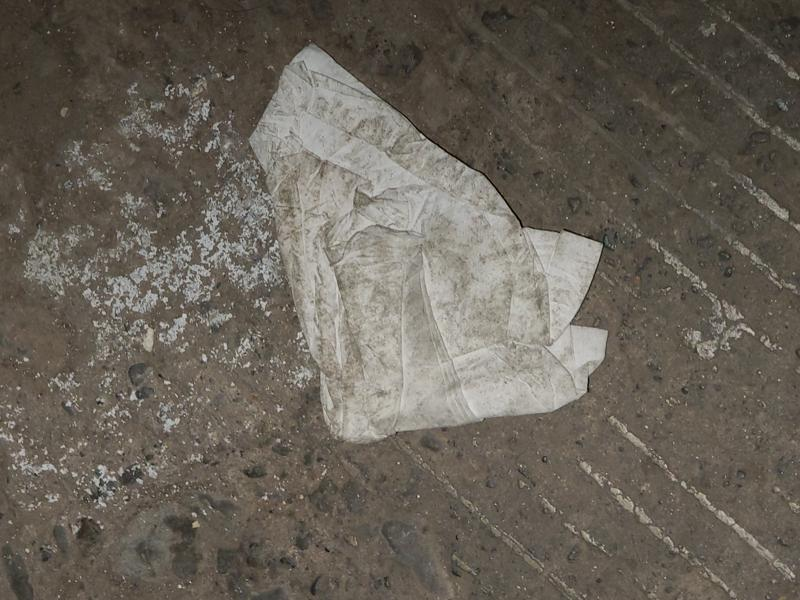papel: (248, 45, 608, 445)
